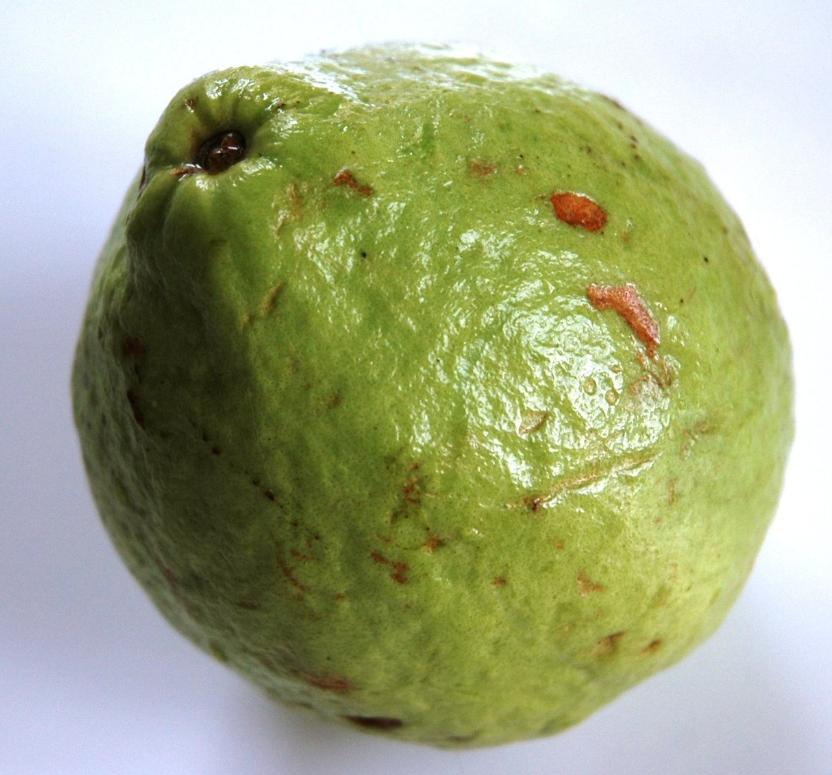guava_B: (70, 43, 796, 752)
